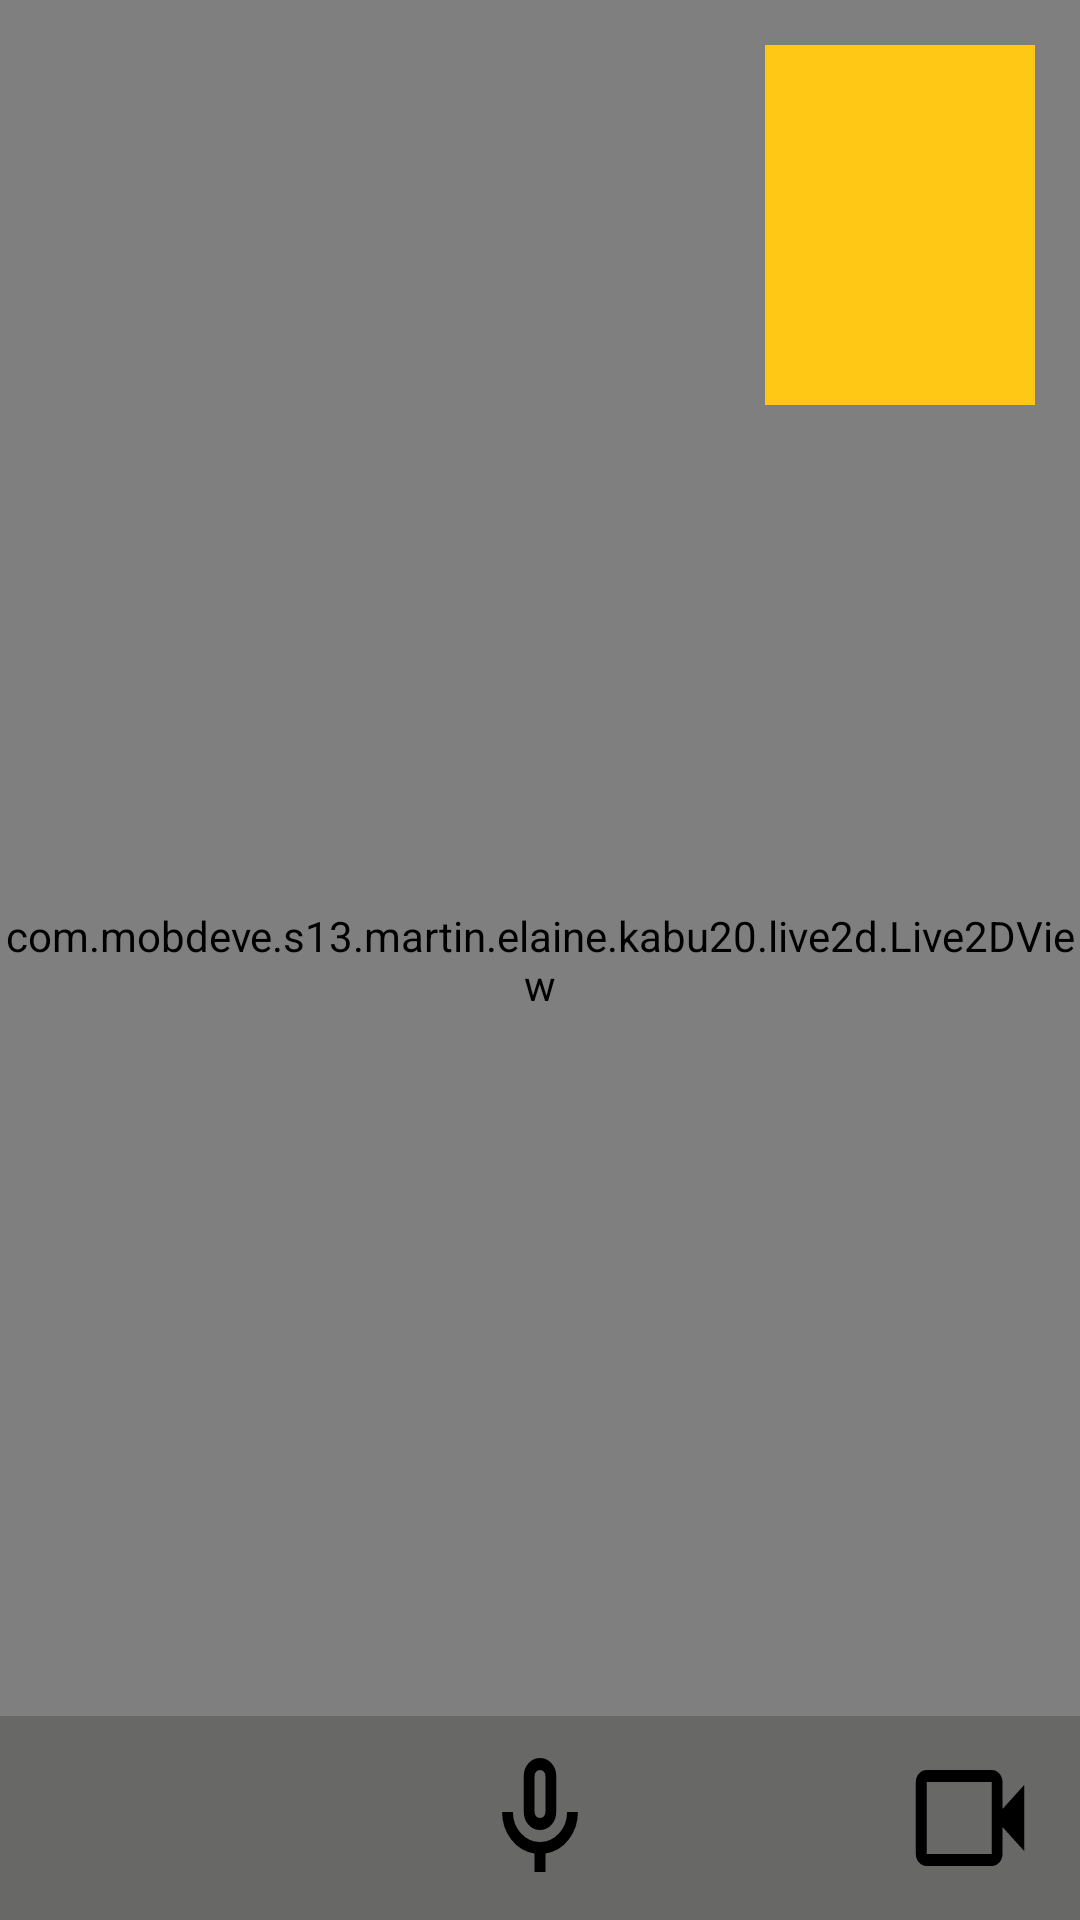

Icon click points for this 1080 × 1920 phone screenshot, format (x=x, y=y):
mic: (x=540, y=1815)
videocam: (x=970, y=1818)
